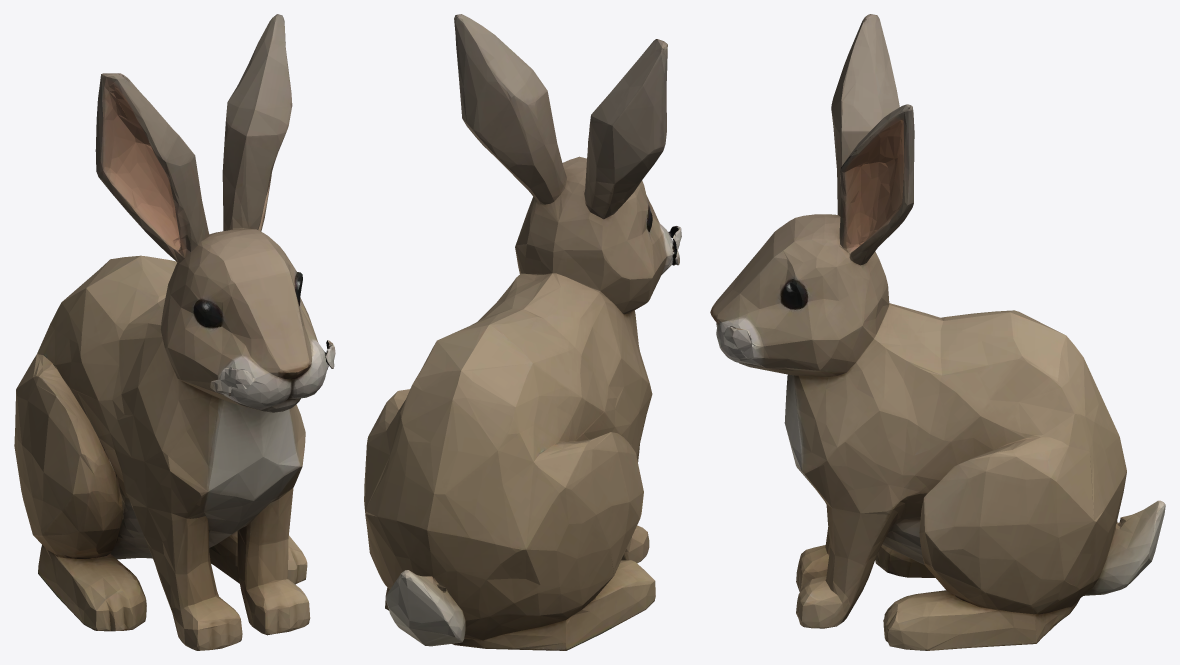
Rendered from rabbit.glb.
The picture shows the model from 3 angles, left to right: view 1: azimuth 30°, elevation 25°; view 2: azimuth 150°, elevation 25°; view 3: azimuth 270°, elevation 25°; orthographic projection. The views are drawn at different scales.
Parts seen in each view (by area): view 1: world; view 2: world; view 3: world.
Part boxes in pixels (box(x1,y1,x2,y2)): world: box(14, 14, 335, 650); world: box(364, 14, 681, 650); world: box(710, 14, 1165, 650).
Bounding box in the file's own units: 0.4421 × 0.9987 × 0.7667.
1 material, 1 textured.
